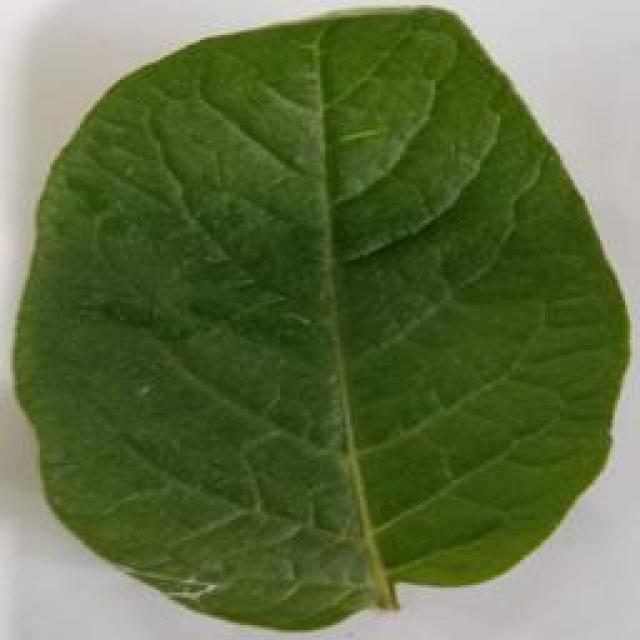Potato_Healthy: (14, 5, 622, 628)
